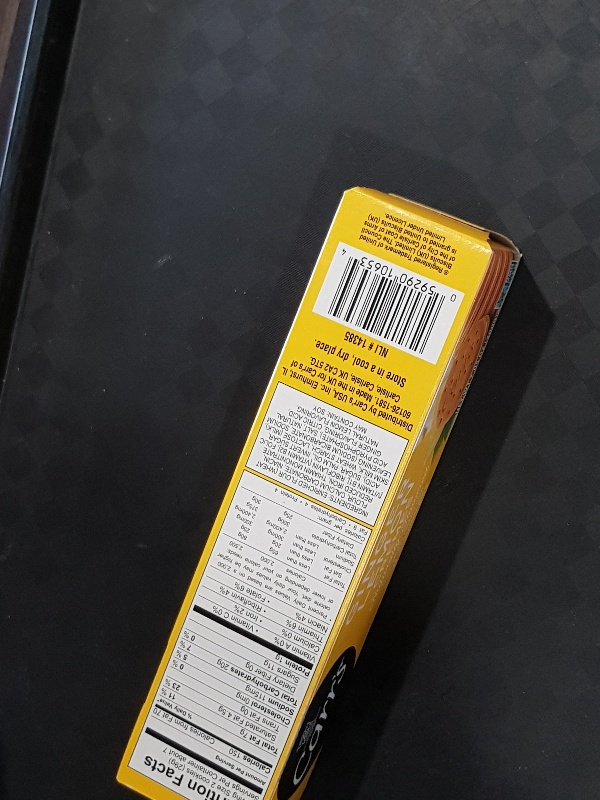Carr's Ginger Lemon Cremes: (115, 184, 523, 800)
